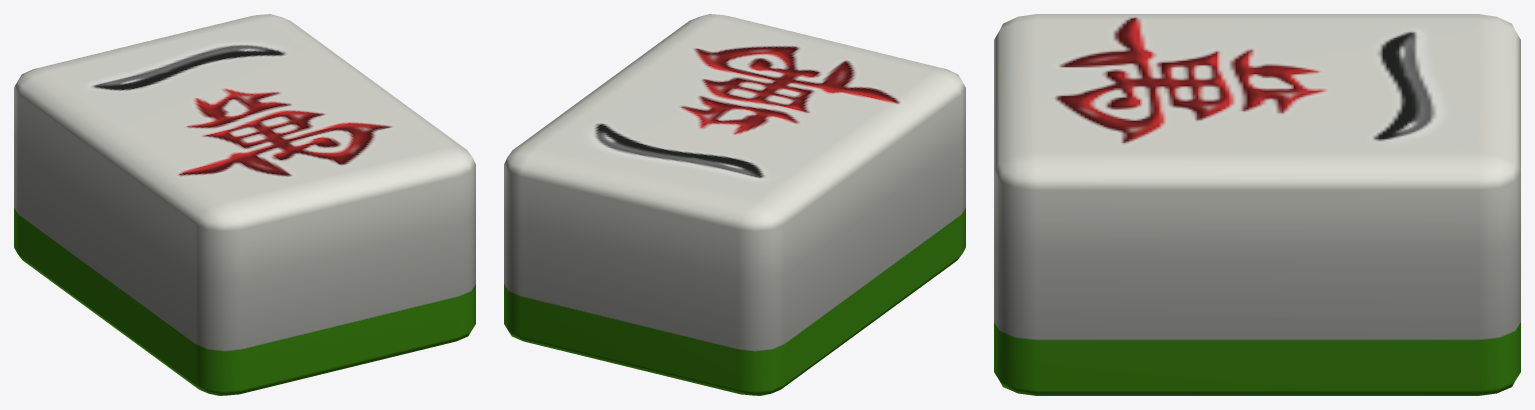
Rendered from majiangzi.fbx.
3 views of the same model, side by side, from view 1: azimuth 30°, elevation 25°; view 2: azimuth 150°, elevation 25°; view 3: azimuth 270°, elevation 25° (orthographic). The views are drawn at different scales.
Parts seen in each view (by area): view 1: pai; view 2: pai; view 3: pai.
Part boxes in pixels (x1,y1,x2,y2): pai: [14, 14, 475, 395]; pai: [504, 14, 965, 395]; pai: [994, 14, 1520, 395].
Size of the model in its own units: 3.1 by 2.03 by 4.1.
1 material, 1 textured.
